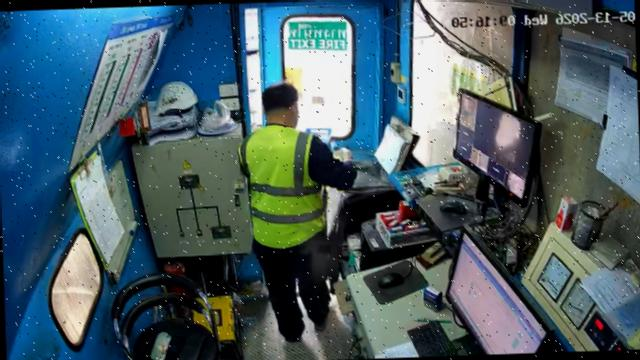People: (237, 83, 356, 341)
Phone: (176, 334, 206, 360), (163, 335, 187, 360)
